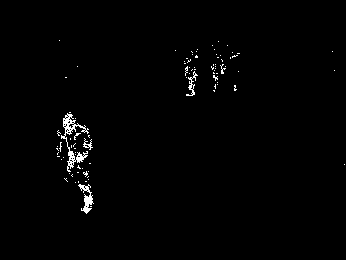person: (52, 111, 96, 216)
